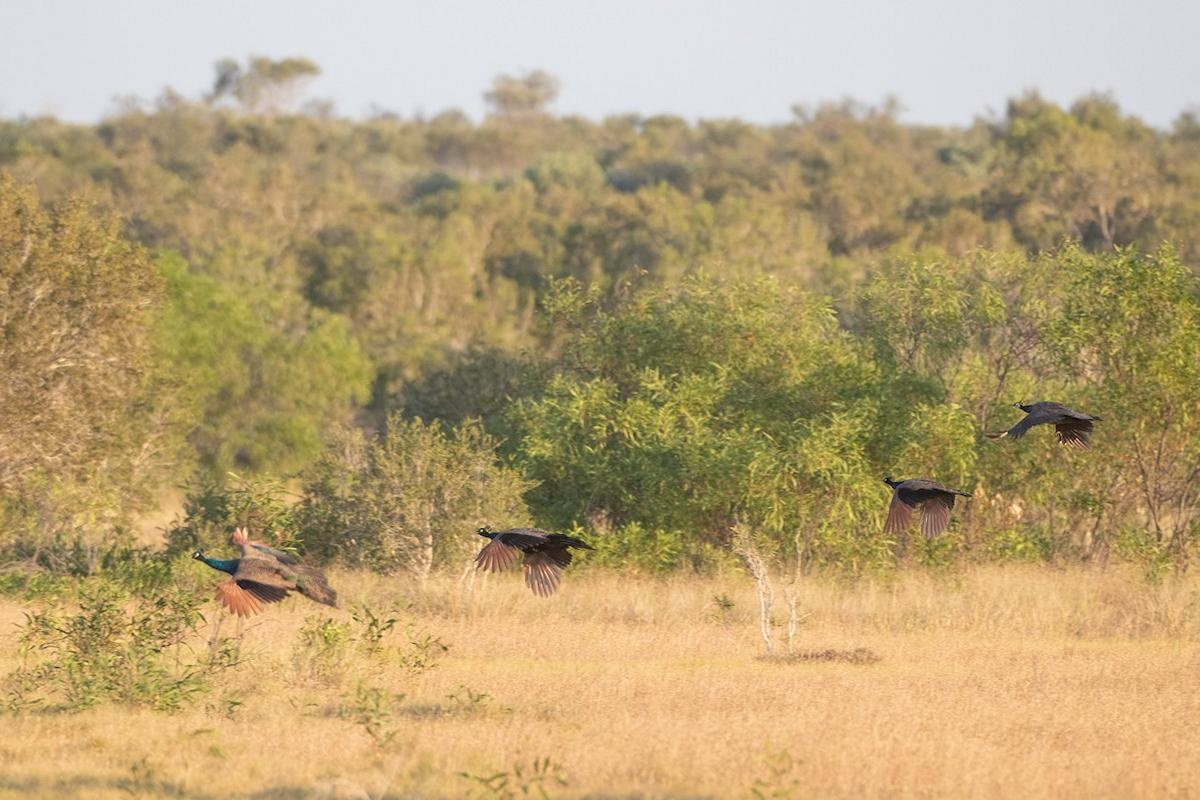peacock: (174, 522, 346, 618)
